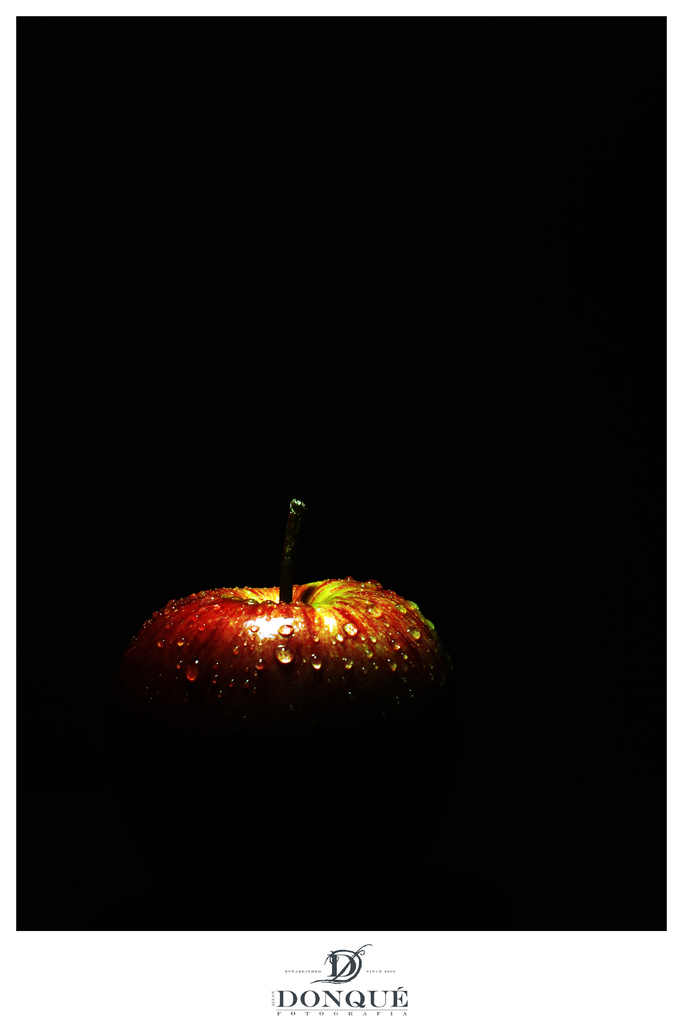Apple: (118, 541, 442, 853)
